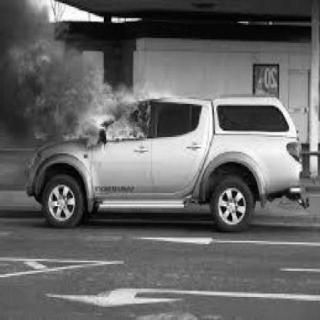Fire: (17, 22, 157, 166)
